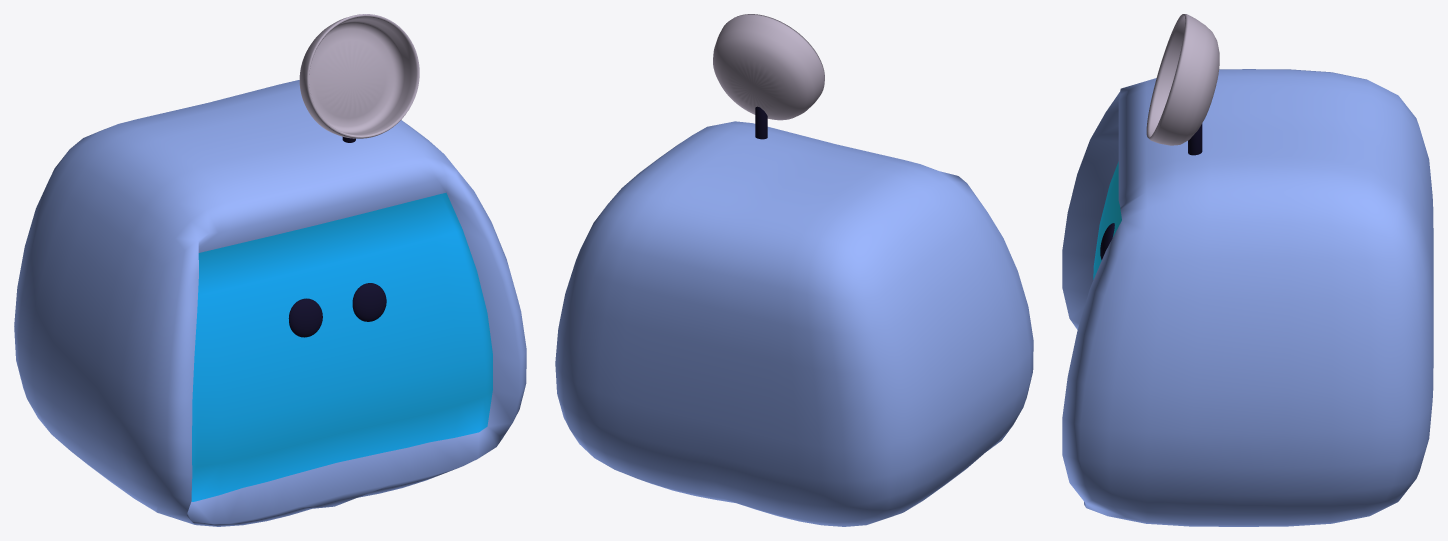
Rendered from HEAD 2 Animation Complete.fbx.
3 views of the same model, side by side, from view 1: azimuth 30°, elevation 25°; view 2: azimuth 150°, elevation 25°; view 3: azimuth 270°, elevation 25° (orthographic). The views are drawn at different scales.
Parts seen in each view (by area): view 1: Cube, Cylinder, Sphere.001; view 2: Cube, Cylinder; view 3: Cube, Cylinder.
Boxes of the visible parts, bbox=[...] form: Cube: bbox=[14, 80, 526, 526]; Cylinder: bbox=[299, 14, 419, 138]; Sphere.001: bbox=[288, 283, 386, 337]; Cube: bbox=[555, 121, 1033, 526]; Cylinder: bbox=[713, 14, 824, 120]; Cube: bbox=[1062, 69, 1433, 526]; Cylinder: bbox=[1146, 14, 1219, 145].
Size of the model in its own units: 303 by 337 by 235.
